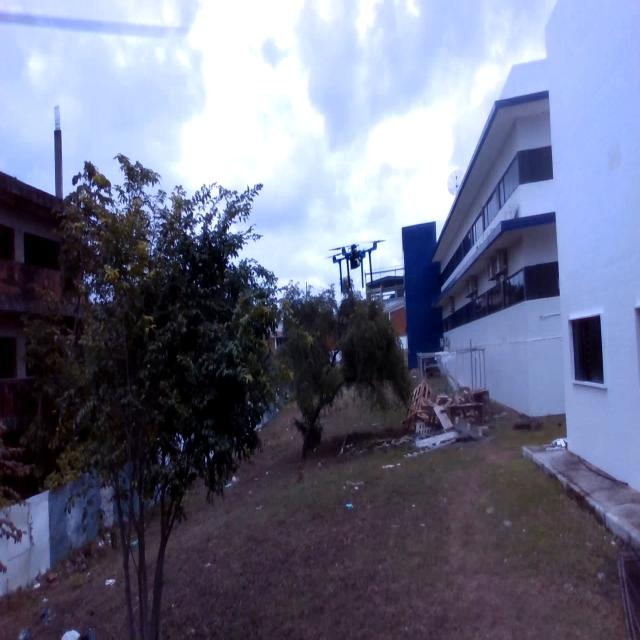-uav-: (327, 233, 388, 293)
